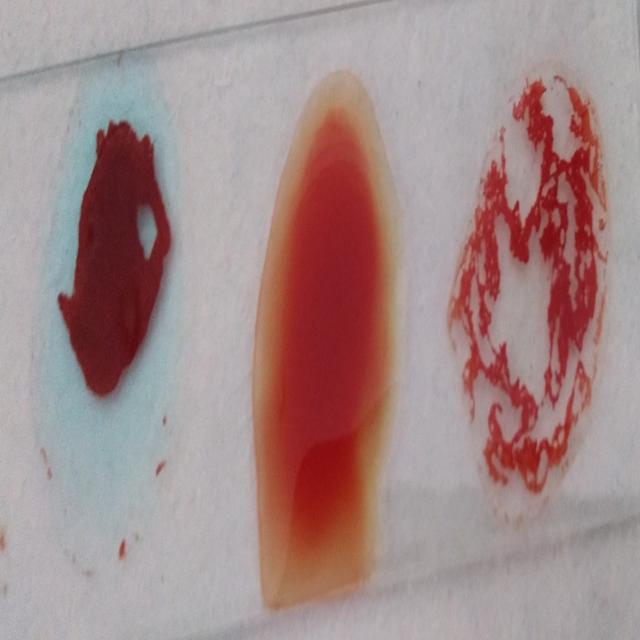A: (45, 49, 180, 529)
D: (458, 79, 604, 533)
